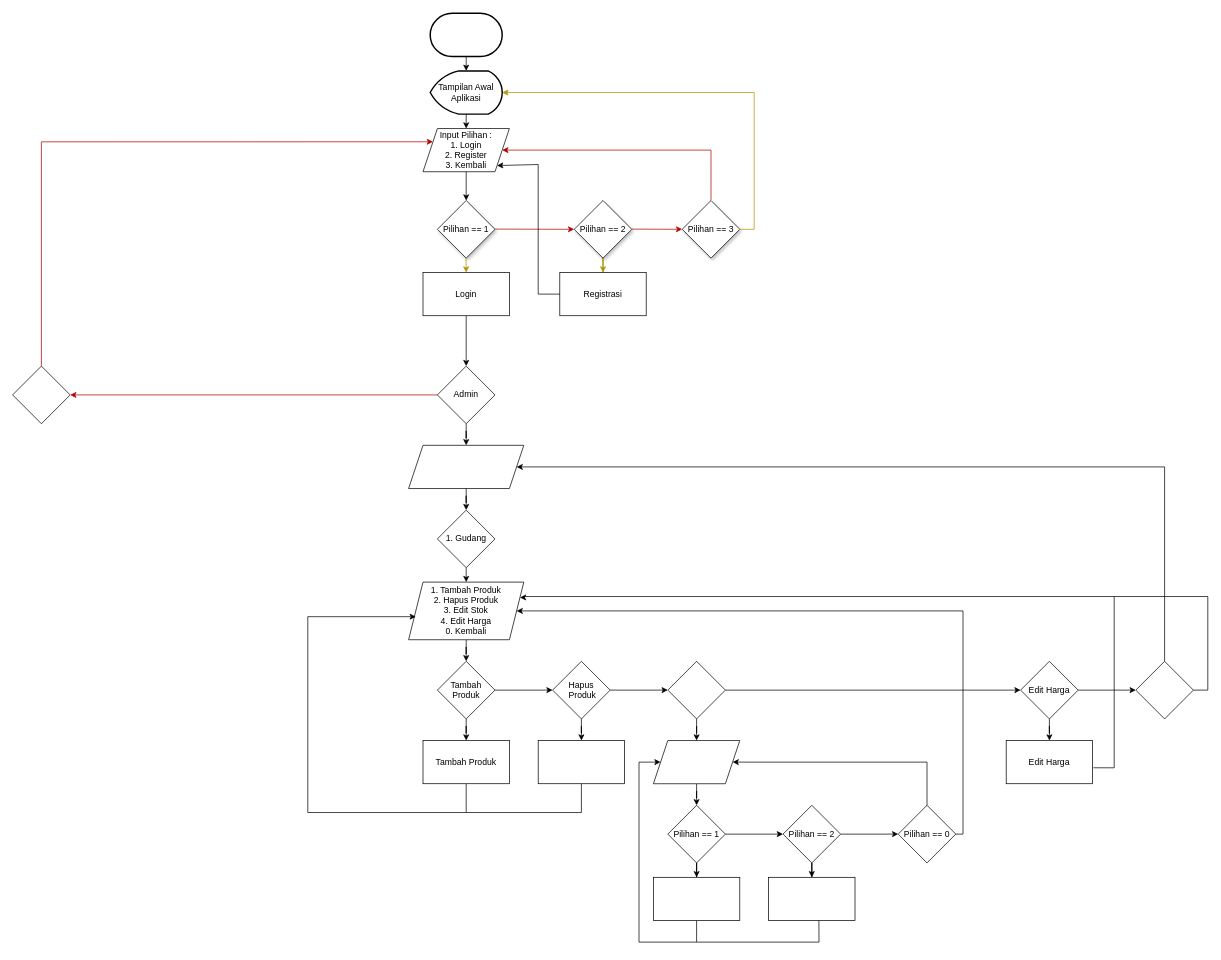
Some shapes in this 1221 by 960 pixel diagram are drawn without their labels. Here are the shapes that lost their labels. From the top down, the centre of each, then its label:
point (466, 34): Mulai
point (41, 394): User
point (466, 467): 1. Gudang 2. Riwayat Transaksi 3. Riwayat Masukkan 0. Keluar
point (696, 690): Edit Stok
point (1164, 690): Kembali
point (581, 762): Produk Terhapus
point (696, 762): 1. Tambah stok 2. Kurangi Stok 0. Kembali
point (696, 899): Tambah Stok
point (811, 899): Kurangi Stok
